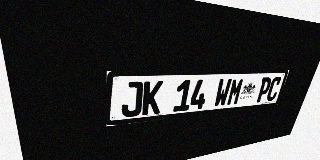1: (173, 80, 194, 112)
4: (189, 79, 209, 110)
C: (265, 77, 282, 101)
J: (121, 81, 143, 118)
K: (142, 81, 163, 115)
M: (226, 78, 245, 106)
P: (255, 77, 273, 103)
W: (213, 78, 232, 107)
